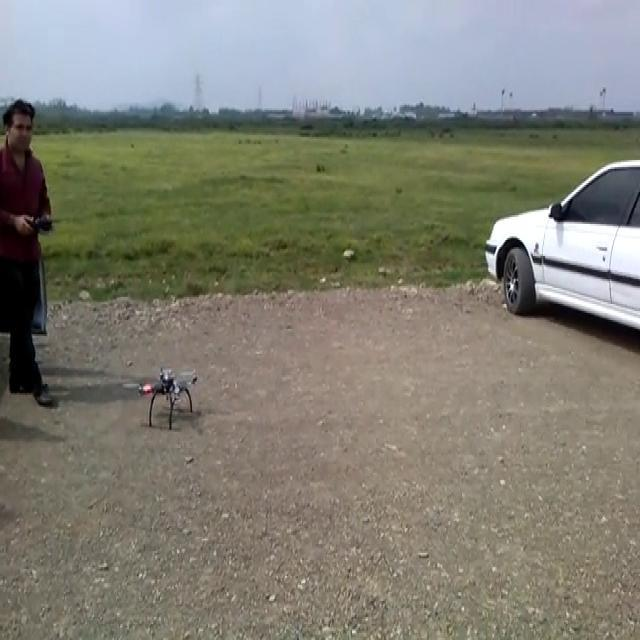drone: (122, 363, 198, 429)
